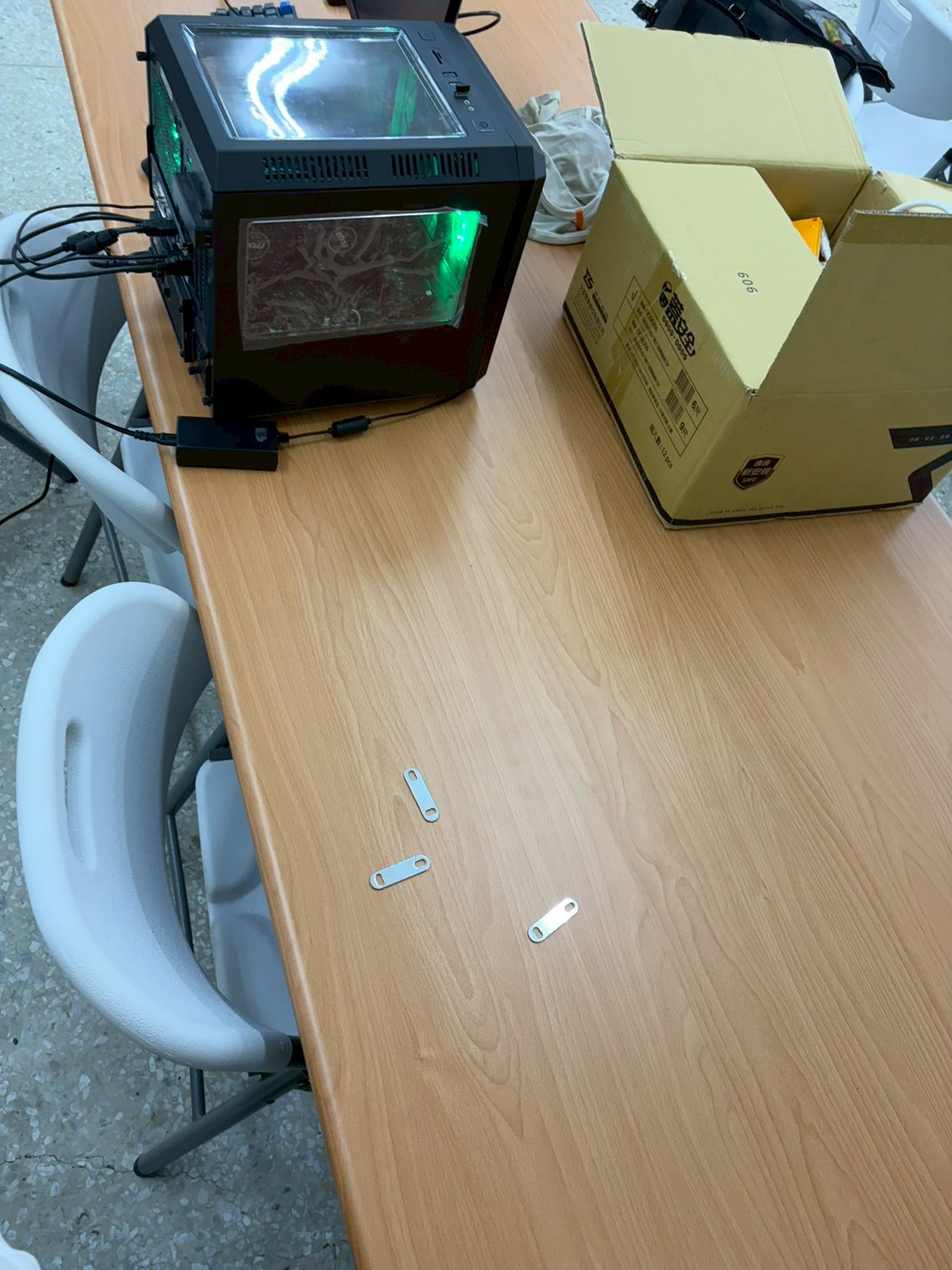Fe: (510, 891, 588, 942), (363, 848, 430, 891), (395, 762, 441, 822)
